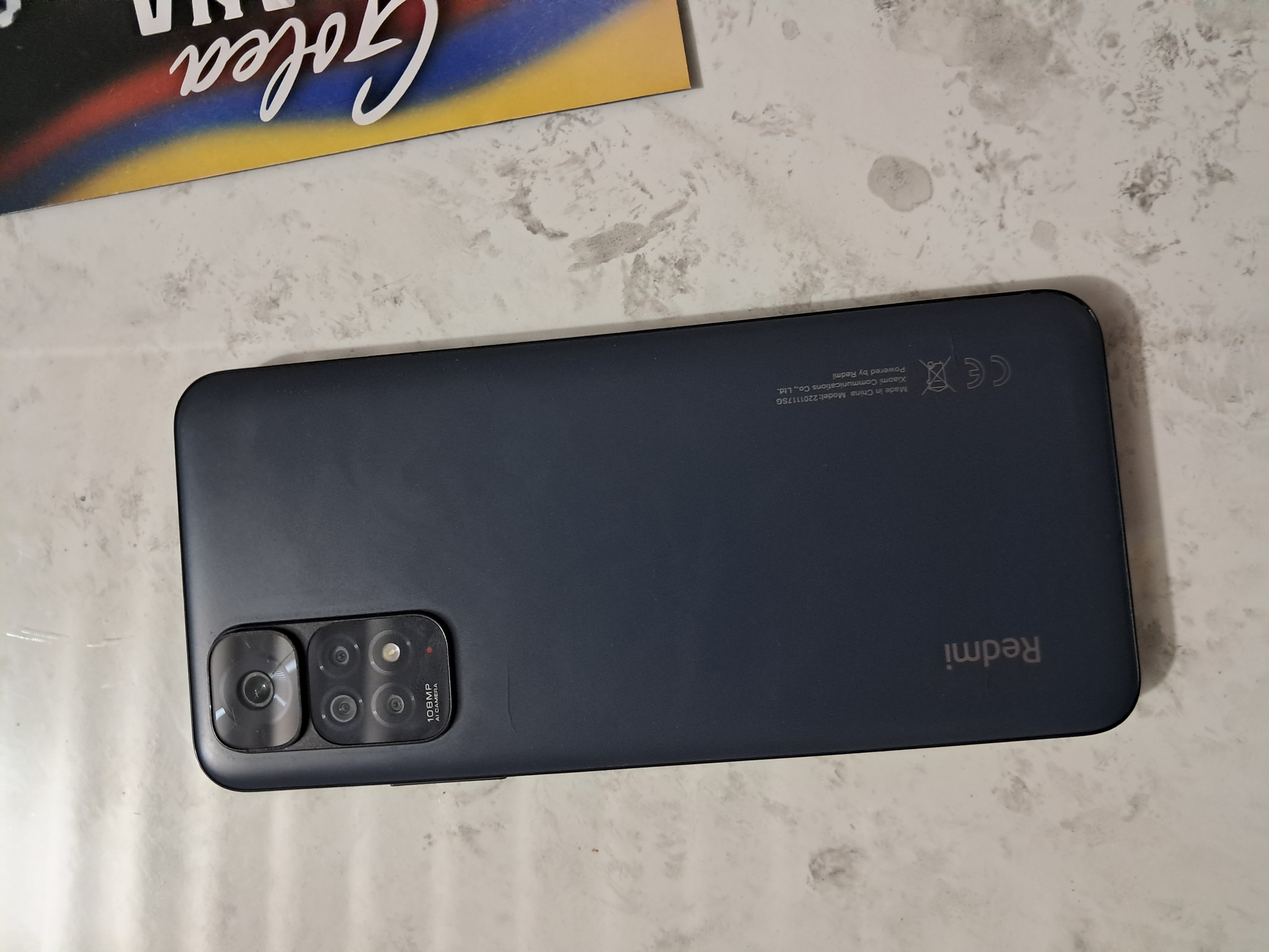phone: (174, 290, 1139, 790)
